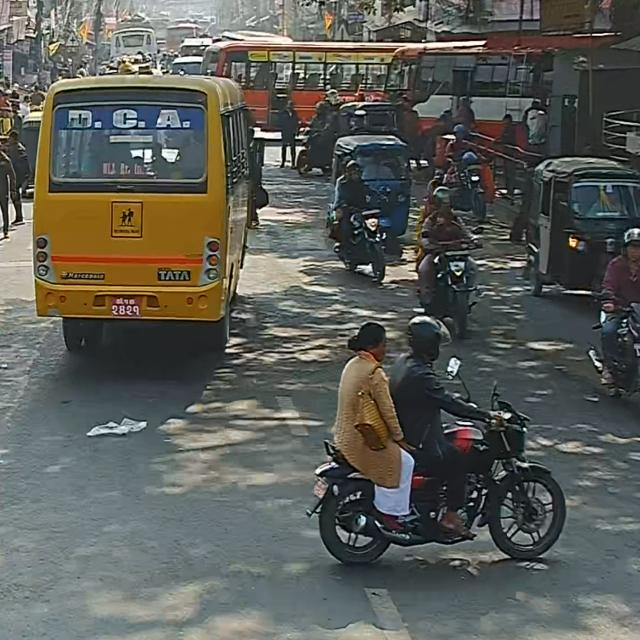license_plate: (86, 286, 152, 321)
